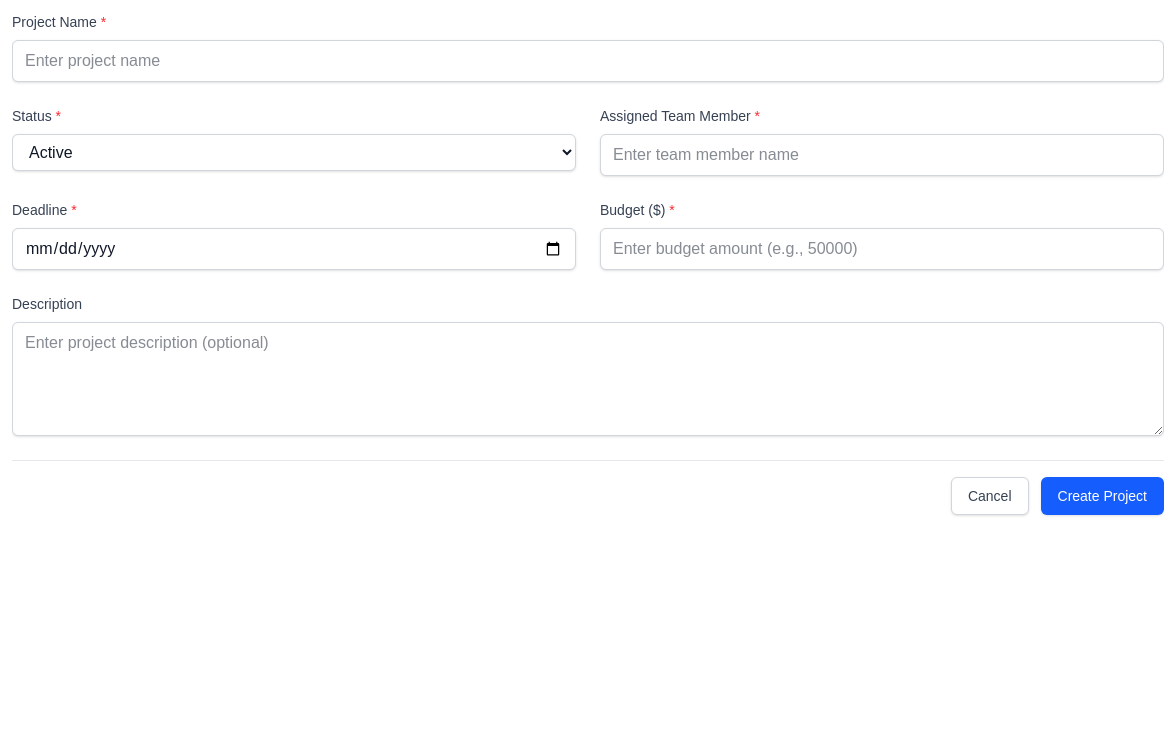
Scenario: ProjectForm Component › should clear validation error when user starts typing
Note: Trigger validation error
Click the button "Create Project".
click(1102, 496)  # box [1040, 477, 1164, 515]
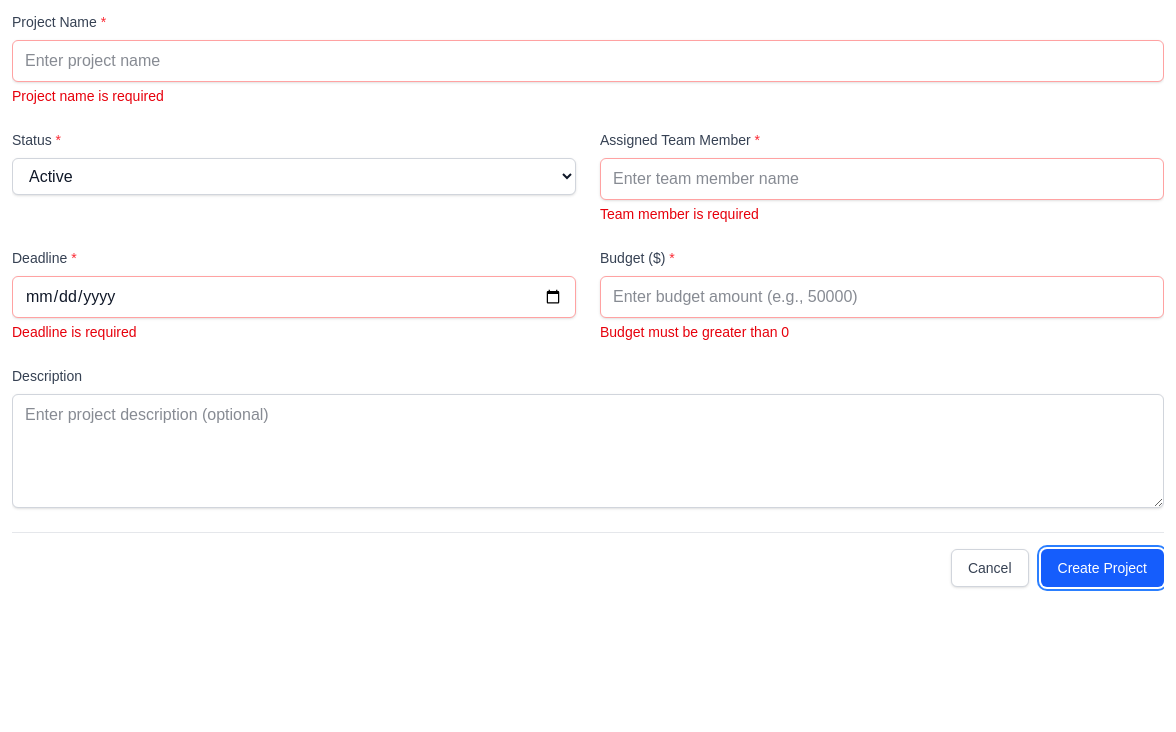
Now the text "Project name is required" is shown, box [12, 88, 164, 104]
Note: Start typing in name field
Type "T" into the field labelled "Project Name *".
click(588, 61); type("T")  # box [12, 40, 1164, 82]
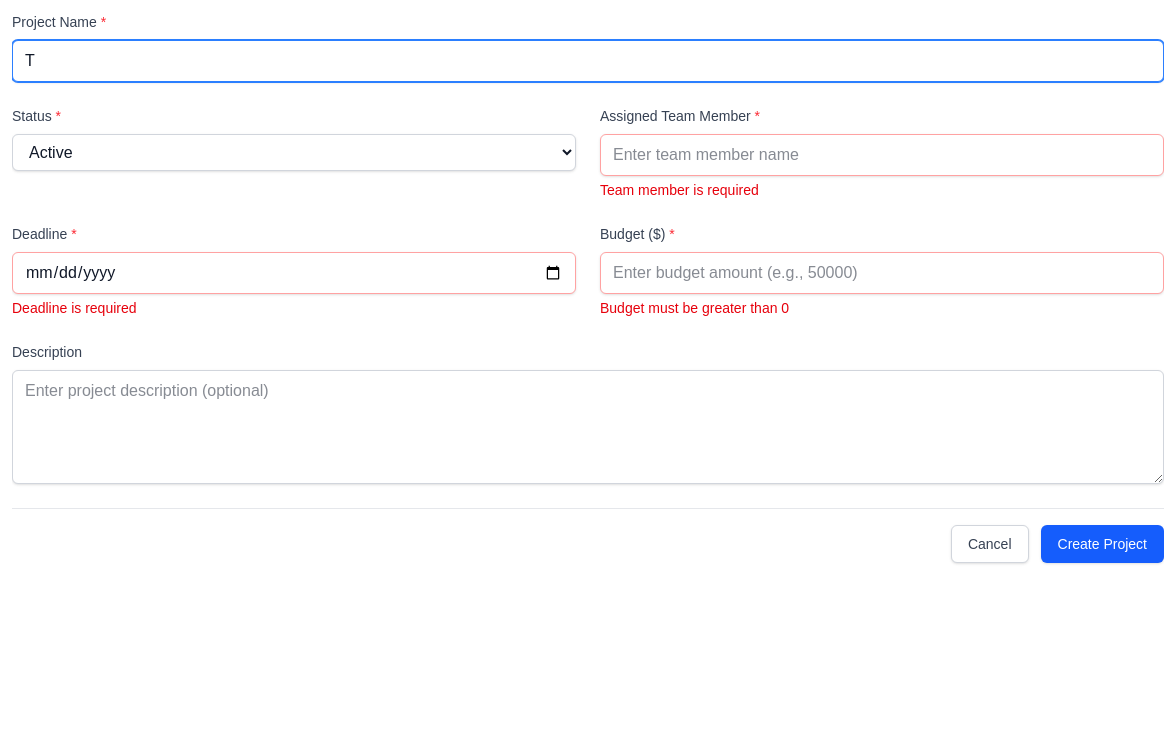
Now the text "Project name is required" is gone
